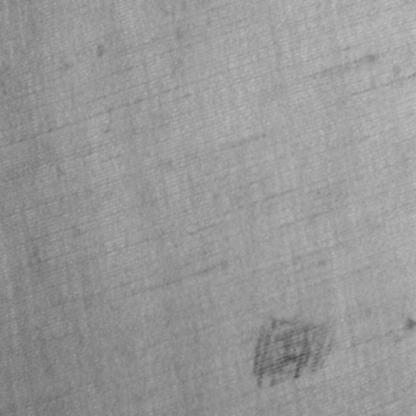oil spot: (249, 310, 340, 394)
